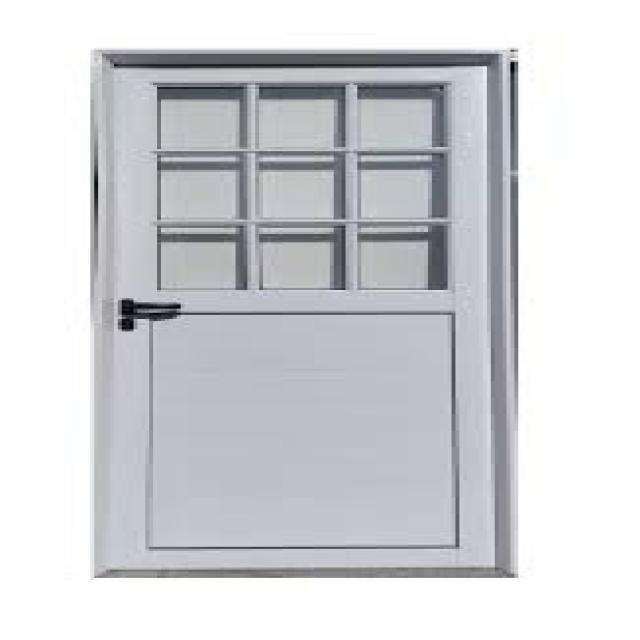door: (92, 50, 512, 576)
